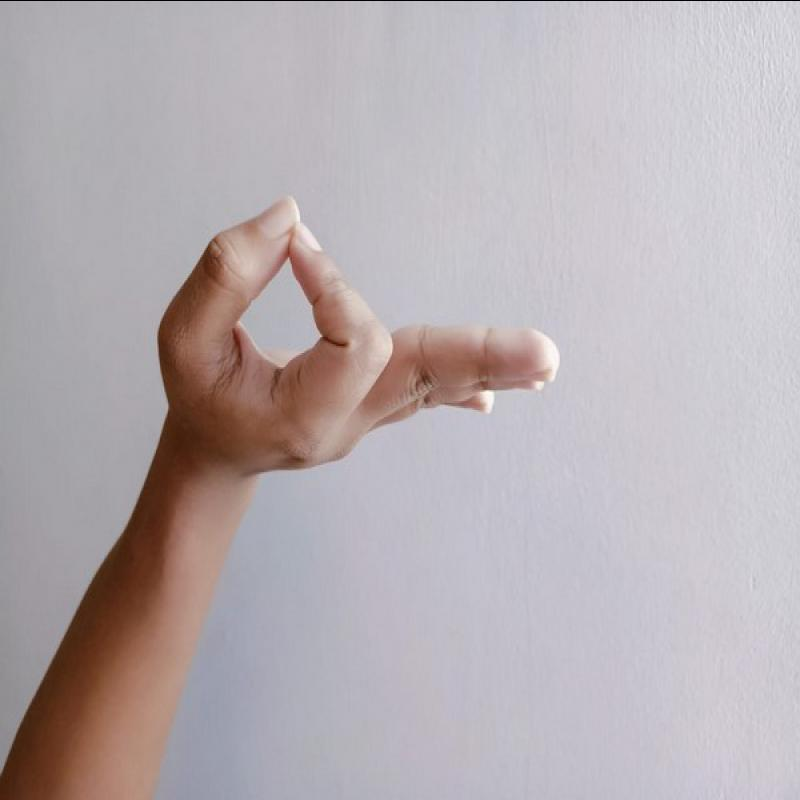Mudraakhyam: (142, 181, 581, 483)
